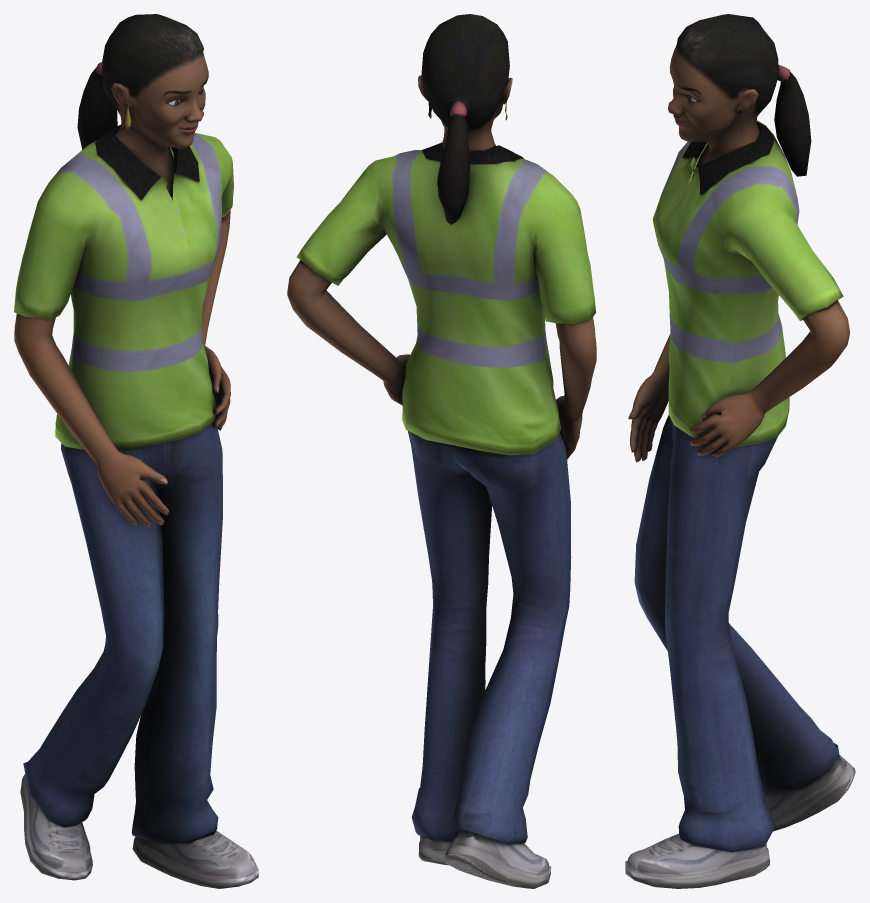
Rendered from SWRK01_10_01.FBX.
The picture shows the model from 3 angles, left to right: view 1: azimuth 30°, elevation 25°; view 2: azimuth 150°, elevation 25°; view 3: azimuth 270°, elevation 25°; orthographic projection.
Parts seen in each view (by area): view 1: SWRK01_10_01; view 2: SWRK01_10_01; view 3: SWRK01_10_01.
Part boxes in pixels (<box>): SWRK01_10_01: <box>14,14,258,888</box>; SWRK01_10_01: <box>287,14,596,888</box>; SWRK01_10_01: <box>625,14,855,888</box>.
Bounding box in the file's own units: 21.6 × 67.62 × 16.76.
Materials: 1 (1 with a texture image).
